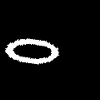chain: (6, 39, 58, 63)
